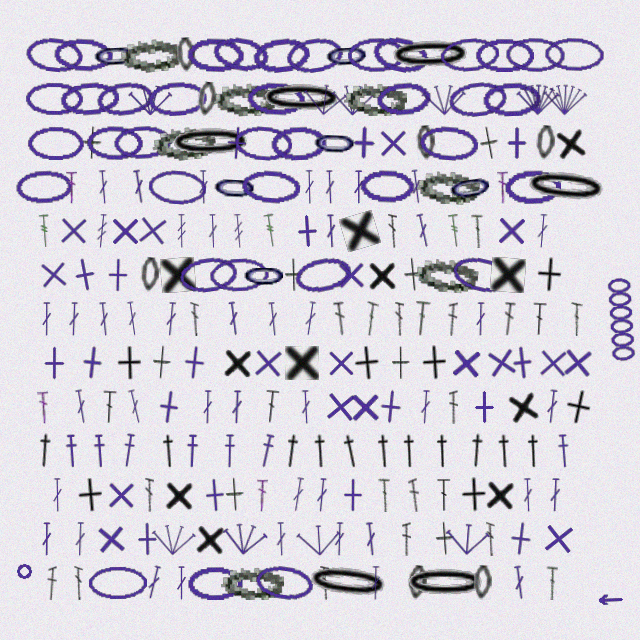chain: (304, 561, 392, 604), (522, 166, 610, 208), (388, 37, 473, 73), (259, 81, 344, 116), (168, 125, 253, 160), (449, 252, 513, 298), (403, 566, 488, 600), (370, 32, 432, 77), (292, 253, 355, 297), (210, 33, 272, 76), (253, 562, 316, 604), (118, 35, 184, 75), (151, 123, 217, 163), (284, 34, 346, 76), (177, 254, 240, 295), (447, 79, 509, 119), (414, 256, 479, 294), (95, 79, 156, 119), (251, 35, 311, 75), (24, 35, 84, 74), (439, 36, 500, 74), (59, 80, 120, 118), (418, 124, 479, 162), (240, 168, 301, 206), (213, 81, 277, 117), (416, 169, 480, 205), (233, 124, 293, 162), (147, 168, 207, 206), (147, 80, 207, 117), (113, 124, 173, 161), (375, 80, 433, 118), (53, 37, 113, 73), (209, 257, 269, 293), (344, 82, 407, 116), (221, 566, 284, 600), (505, 37, 566, 72), (246, 81, 305, 117), (482, 81, 541, 117), (15, 169, 74, 205), (544, 37, 604, 72), (270, 125, 328, 161), (347, 37, 406, 72), (445, 167, 496, 207), (186, 37, 244, 72), (86, 125, 144, 160), (475, 38, 534, 72), (25, 82, 84, 116), (88, 566, 147, 600), (359, 169, 416, 204), (504, 169, 561, 204), (27, 126, 85, 160), (187, 566, 244, 600), (91, 37, 139, 73), (323, 37, 371, 73), (211, 169, 259, 205), (311, 125, 359, 160), (241, 258, 288, 292), (196, 81, 218, 117), (535, 125, 556, 160), (407, 565, 428, 600), (176, 37, 196, 72), (416, 125, 436, 160), (140, 257, 160, 292), (473, 565, 492, 600)
double: (414, 213, 432, 248), (413, 301, 431, 336), (126, 389, 144, 424), (145, 565, 163, 600), (263, 389, 280, 424), (131, 169, 147, 204), (363, 301, 379, 336), (73, 389, 89, 424), (290, 477, 306, 512), (409, 169, 424, 204), (125, 301, 140, 336), (226, 301, 241, 336), (303, 301, 318, 336), (333, 301, 348, 336), (512, 565, 527, 600), (532, 302, 547, 336), (102, 390, 117, 424), (545, 389, 559, 424), (97, 302, 111, 336), (164, 302, 178, 336), (266, 302, 280, 336), (502, 302, 516, 336), (315, 478, 329, 512), (437, 478, 451, 512), (364, 522, 378, 556), (97, 170, 110, 204), (536, 214, 549, 248), (570, 302, 583, 336), (37, 390, 50, 424), (419, 390, 432, 424), (408, 478, 421, 512), (545, 566, 558, 600), (324, 170, 336, 204), (207, 214, 219, 248), (325, 214, 337, 248), (471, 214, 483, 248), (68, 302, 80, 336), (231, 390, 243, 424), (300, 390, 312, 424), (256, 478, 268, 512), (378, 478, 390, 512), (522, 478, 534, 512), (549, 478, 561, 512), (74, 522, 86, 556), (275, 522, 287, 556), (66, 170, 77, 204), (198, 170, 209, 204), (304, 170, 315, 204), (353, 170, 364, 204), (497, 170, 508, 204), (41, 302, 52, 336), (447, 302, 458, 336), (475, 302, 486, 336), (202, 390, 213, 424), (52, 478, 63, 512), (41, 522, 52, 556), (334, 522, 345, 556), (176, 566, 187, 600), (370, 566, 381, 600), (190, 302, 200, 336), (394, 302, 404, 336), (144, 478, 154, 512), (47, 566, 57, 600), (388, 214, 397, 248), (449, 390, 458, 424), (402, 522, 411, 556), (486, 522, 495, 556), (74, 566, 83, 600), (320, 566, 329, 600)
enseble_chain: (605, 277, 637, 363)
fan: (301, 79, 349, 118), (221, 519, 269, 558), (150, 520, 197, 557), (444, 520, 491, 557), (330, 81, 376, 117), (296, 521, 342, 557), (421, 81, 467, 116), (515, 81, 561, 116), (542, 81, 588, 116), (128, 82, 173, 116)
half_double: (280, 433, 304, 469), (339, 433, 363, 469), (34, 433, 56, 468), (466, 433, 488, 468), (257, 433, 277, 469), (159, 434, 179, 468), (374, 434, 394, 468), (311, 434, 330, 468), (400, 434, 419, 468), (433, 434, 452, 468), (495, 434, 514, 468), (524, 434, 543, 468), (120, 433, 137, 468), (64, 434, 79, 468), (92, 434, 107, 468), (556, 434, 571, 468), (185, 434, 199, 468), (223, 434, 236, 468)
noise: (15, 562, 34, 581), (596, 594, 623, 605)
single: (339, 210, 381, 252), (65, 255, 104, 294), (482, 343, 521, 382), (150, 388, 188, 426), (505, 387, 542, 426), (134, 212, 171, 249), (35, 256, 72, 293), (74, 344, 111, 381), (176, 344, 213, 381), (504, 344, 541, 381), (559, 344, 596, 381), (322, 388, 359, 425), (372, 388, 409, 425), (502, 520, 539, 557), (540, 520, 577, 557), (553, 124, 589, 162), (219, 125, 255, 161), (289, 213, 325, 249), (160, 257, 196, 293), (490, 257, 526, 293), (250, 345, 286, 381), (448, 345, 484, 381), (535, 345, 571, 381), (197, 477, 233, 513), (93, 521, 129, 557), (346, 125, 381, 160), (56, 213, 91, 248), (494, 213, 529, 248), (562, 388, 594, 426), (194, 521, 227, 557), (376, 126, 410, 160), (500, 126, 534, 160), (108, 214, 142, 248), (101, 258, 135, 292), (334, 258, 368, 292), (37, 346, 71, 380), (285, 346, 319, 380), (324, 346, 358, 380), (348, 390, 382, 424), (467, 390, 501, 424), (104, 478, 138, 512), (336, 478, 370, 512), (130, 522, 164, 556), (484, 477, 517, 512), (222, 345, 254, 380), (367, 258, 398, 292), (164, 478, 195, 512), (352, 345, 381, 381), (76, 477, 104, 513), (535, 257, 563, 292), (420, 345, 448, 380), (460, 477, 487, 512), (116, 346, 142, 380), (478, 125, 501, 161), (403, 257, 424, 292), (152, 345, 172, 380), (225, 477, 245, 512), (435, 521, 455, 556), (83, 126, 102, 160), (285, 258, 303, 292), (392, 346, 410, 380)
treble: (447, 213, 463, 248), (263, 213, 278, 248), (95, 214, 109, 248), (38, 214, 51, 248), (232, 214, 245, 248), (176, 214, 187, 248)
